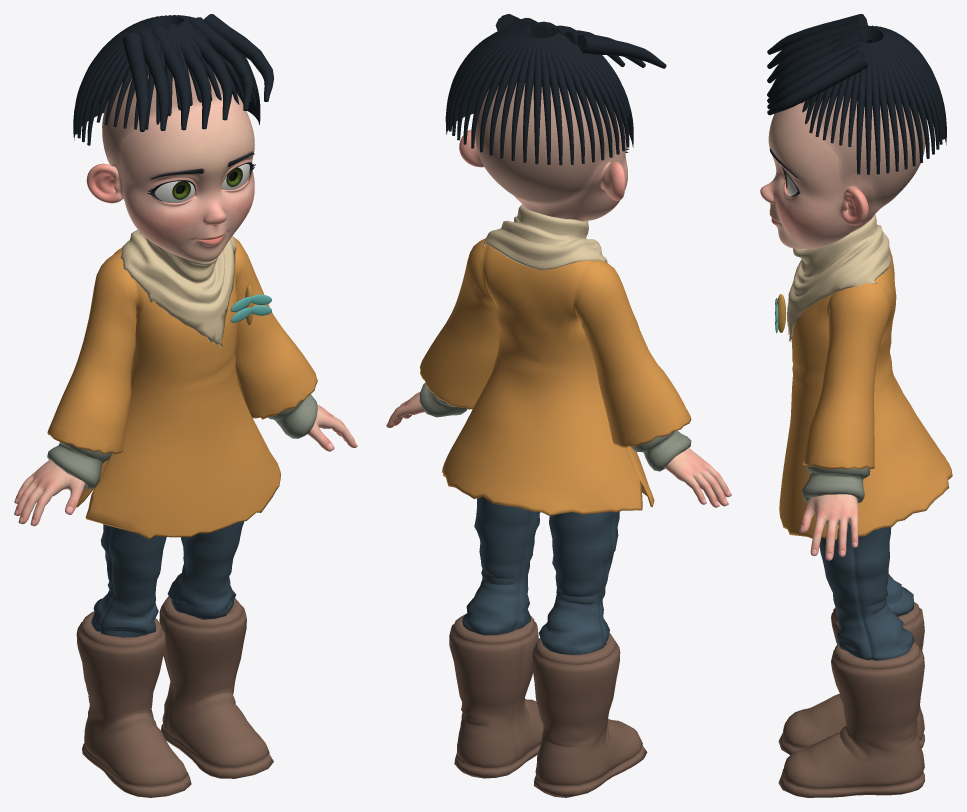
Rendered from actor-brother.glb.
The picture shows the model from 3 angles, left to right: view 1: azimuth 30°, elevation 25°; view 2: azimuth 150°, elevation 25°; view 3: azimuth 270°, elevation 25°; orthographic projection.
Visible parts, largest first — view 1: GEO-spring_jacket.001, GEO-spring_head.001, GEO_spring_boots.l.001, GEO_spring_boots.r.001, GEO_spring_pants.001, GEO_spring_scarf.001, GEO_spring_arms.001, GEO-spring_pullover.001, side fringe.007, side fringe.013, side fringe.012, side fringe.008 (+5 smaller); view 2: GEO-spring_jacket.001, GEO_spring_pants.001, GEO_spring_boots.r.001, GEO-spring_head.001, GEO_spring_boots.l.001, GEO_spring_scarf.001, GEO_spring_arms.001, GEO-spring_pullover.001, side fringe.007, bob strand.088, bob strand.090, bob strand.089 (+15 smaller); view 3: GEO-spring_jacket.001, GEO-spring_head.001, GEO_spring_boots.l.001, GEO_spring_pants.001, GEO_spring_scarf.001, GEO_spring_boots.r.001, GEO_spring_arms.001, GEO-spring_pullover.001, side fringe.013, side fringe.012, side fringe.007, side fringe.008 (+19 smaller).
Part boxes in pixels (x1,y1,x2,y2): GEO-spring_jacket.001: [47, 236, 317, 539]; GEO-spring_head.001: [86, 69, 254, 262]; GEO_spring_boots.l.001: [159, 596, 273, 778]; GEO_spring_boots.r.001: [76, 611, 191, 797]; GEO_spring_pants.001: [91, 521, 244, 637]; GEO_spring_scarf.001: [120, 230, 236, 347]; GEO_spring_arms.001: [14, 404, 357, 526]; GEO-spring_pullover.001: [47, 394, 317, 489]; side fringe.007: [122, 33, 149, 131]; side fringe.013: [203, 14, 273, 101]; side fringe.012: [190, 17, 253, 110]; side fringe.008: [138, 30, 169, 130]; GEO-spring_jacket.001: [419, 238, 691, 515]; GEO_spring_pants.001: [462, 496, 619, 654]; GEO_spring_boots.r.001: [532, 633, 647, 797]; GEO-spring_head.001: [459, 82, 627, 221]; GEO_spring_boots.l.001: [449, 614, 543, 778]; GEO_spring_scarf.001: [483, 204, 607, 269]; GEO_spring_arms.001: [386, 391, 731, 507]; GEO-spring_pullover.001: [419, 383, 691, 471]; side fringe.007: [577, 35, 666, 68]; bob strand.088: [533, 38, 541, 164]; bob strand.090: [542, 38, 562, 165]; bob strand.089: [540, 38, 550, 164]; GEO-spring_jacket.001: [779, 248, 952, 540]; GEO-spring_head.001: [760, 96, 925, 249]; GEO_spring_boots.l.001: [778, 641, 924, 797]; GEO_spring_pants.001: [819, 523, 914, 660]; GEO_spring_scarf.001: [787, 214, 890, 341]; GEO_spring_boots.r.001: [778, 602, 924, 754]; GEO_spring_arms.001: [799, 494, 858, 560]; GEO-spring_pullover.001: [802, 465, 870, 503]; side fringe.013: [767, 51, 867, 115]; side fringe.012: [767, 45, 865, 109]; side fringe.007: [767, 14, 867, 54]; side fringe.008: [767, 20, 865, 68].
Bounding box in the file's own units: 0.6981 × 1.47 × 0.3481.
18 materials, 3 textured.
